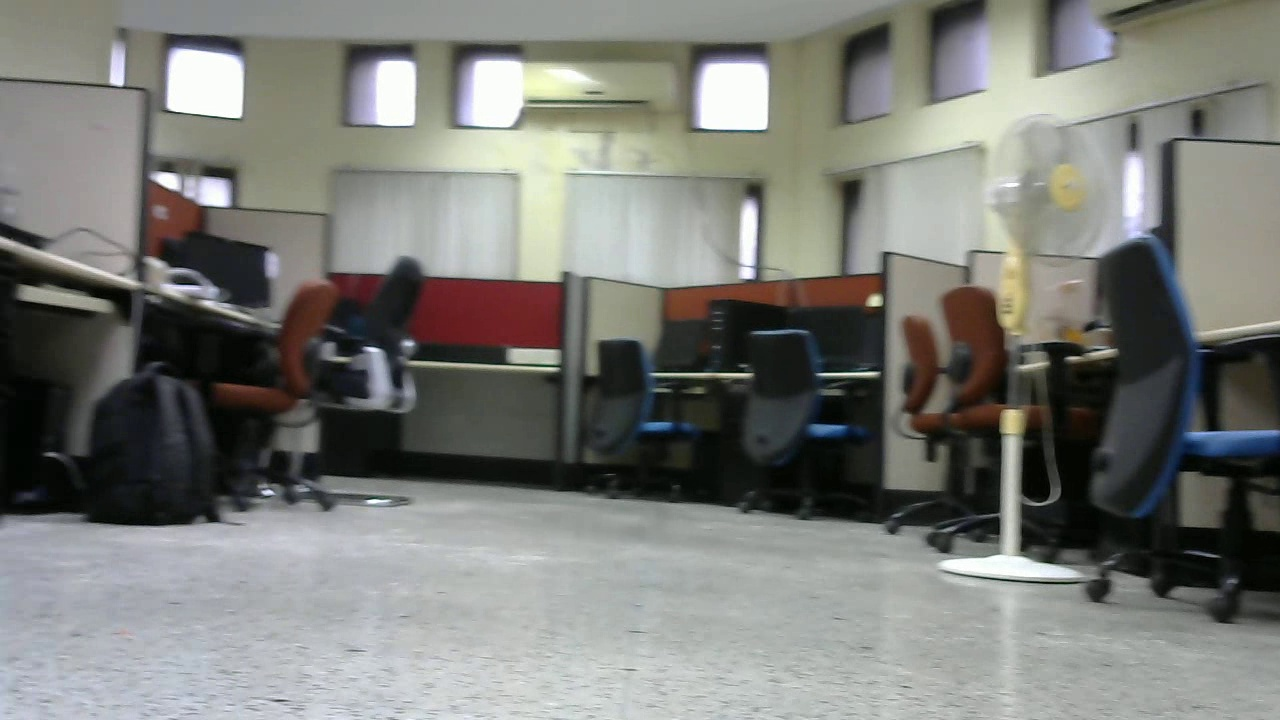chair: (1048, 235, 1280, 623), (879, 285, 1101, 559), (290, 258, 429, 517), (183, 283, 332, 510), (732, 327, 864, 518), (573, 334, 715, 491)
